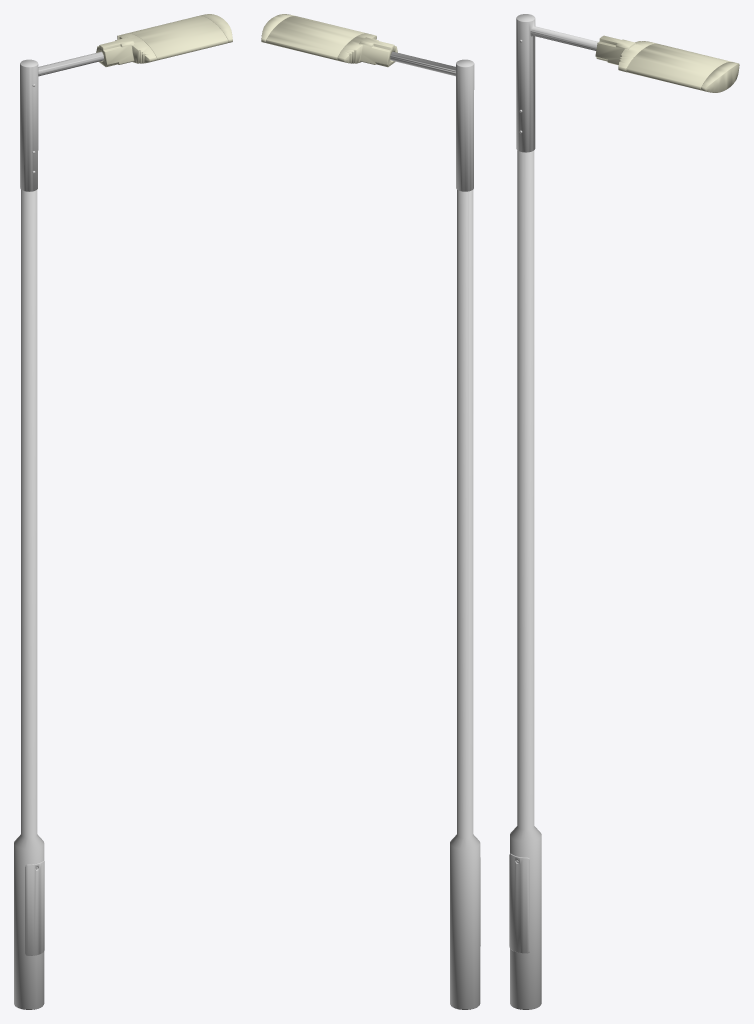
The model's file is lamp_06.glb.
3 renders of one model, left to right at view 1: azimuth 30°, elevation 25°; view 2: azimuth 150°, elevation 25°; view 3: azimuth 330°, elevation 25°, orthographic. The views are drawn at different scales.
Visible parts, largest first — view 1: 6M_LampPost.007; view 2: 6M_LampPost.007; view 3: 6M_LampPost.007.
Part boxes in pixels (<box>): 6M_LampPost.007: <box>14,14,232,1009</box>; 6M_LampPost.007: <box>261,14,480,1009</box>; 6M_LampPost.007: <box>509,14,739,1009</box>.
Size of the model in its own units: 1.18 by 5.14 by 0.3221.
